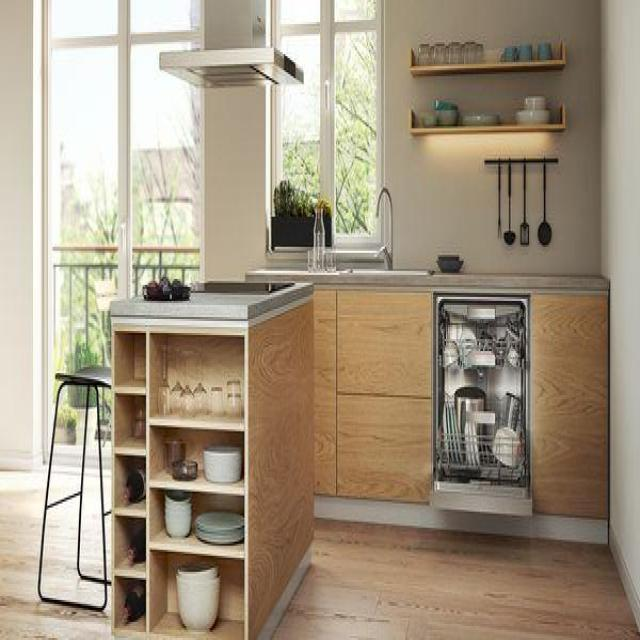dishwasher: (428, 272, 533, 580)
